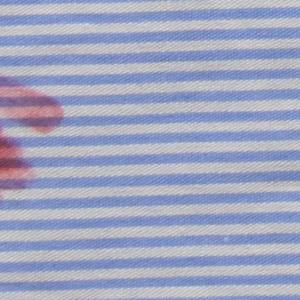Stain: (1, 70, 65, 195)
